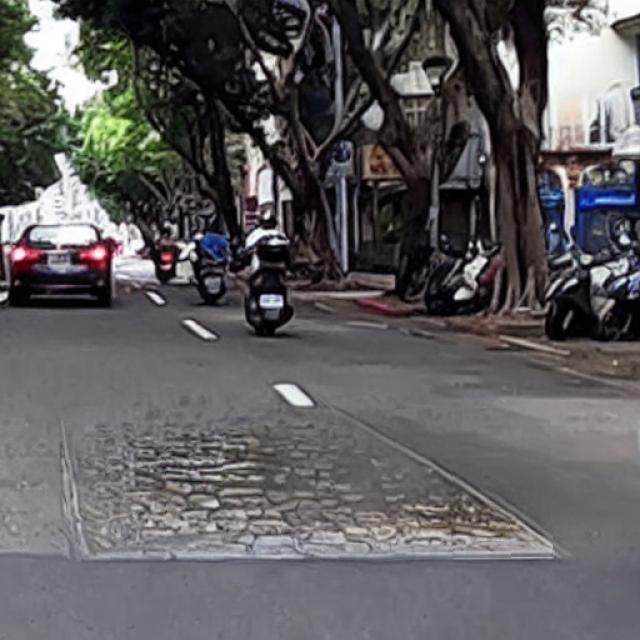puddle: (67, 411, 553, 565)
